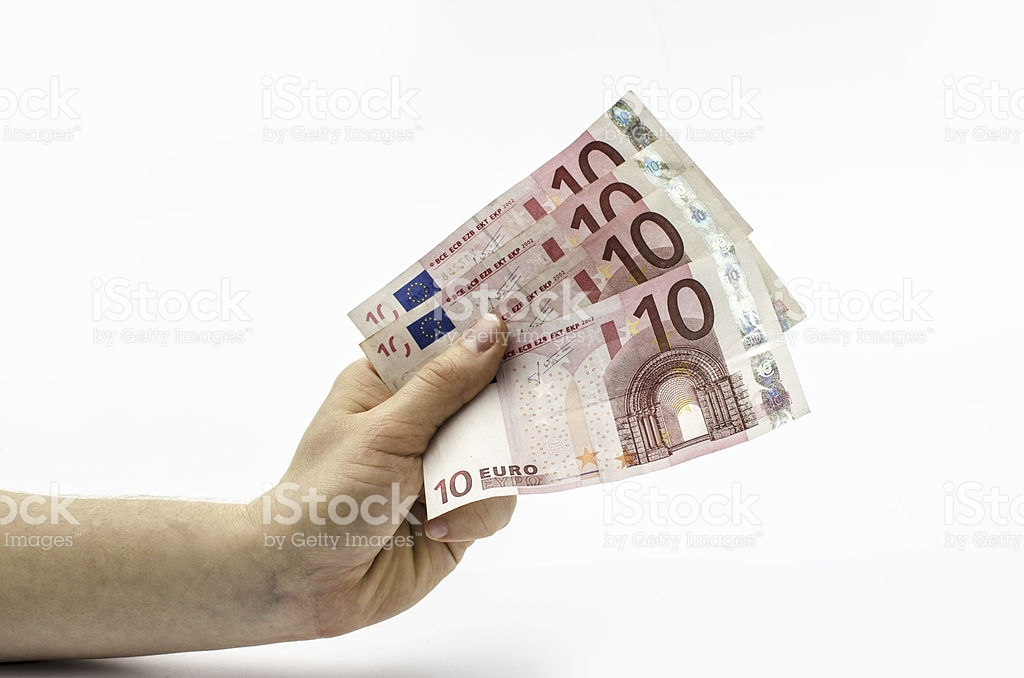billete: (346, 89, 816, 525)
